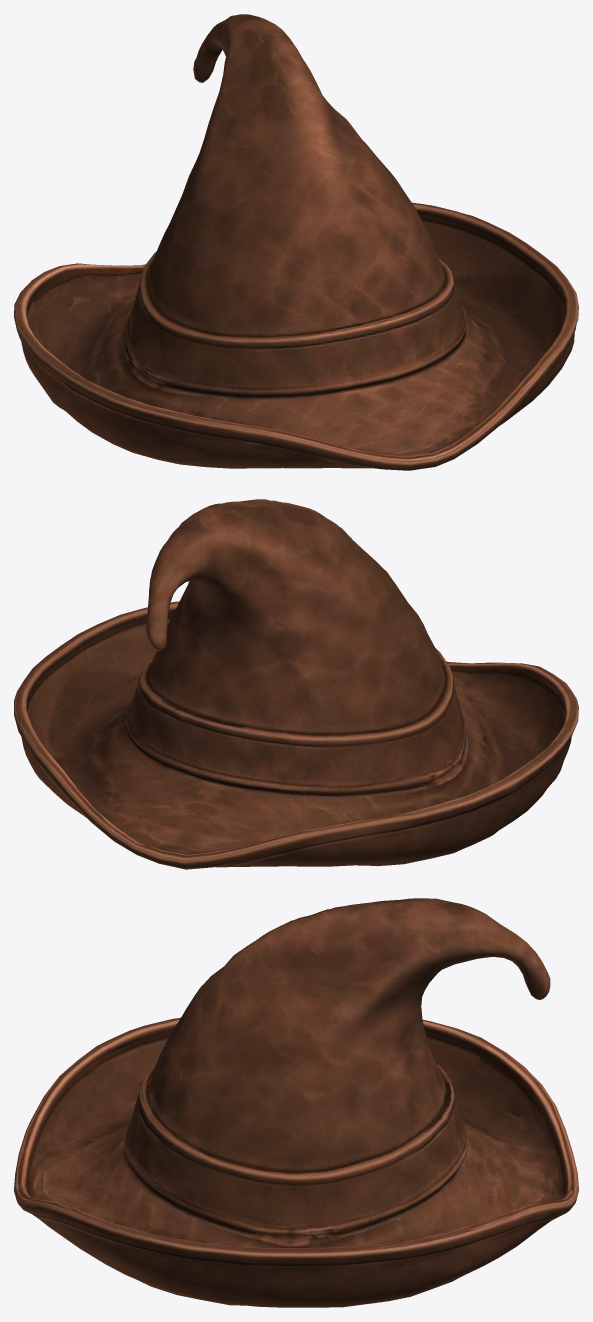
Rendered from LeatherRangedHat.glb.
3 views of the same model, one above another, from view 1: azimuth 30°, elevation 25°; view 2: azimuth 150°, elevation 25°; view 3: azimuth 270°, elevation 25° (orthographic). The views are drawn at different scales.
Parts seen in each view (by area): view 1: Mesh_0; view 2: Mesh_0; view 3: Mesh_0.
Boxes of the visible parts, box(x1,y1,x2,y2) form: Mesh_0: box(14, 14, 578, 470); Mesh_0: box(14, 499, 578, 869); Mesh_0: box(14, 898, 578, 1307).
Size of the model in its own units: 1.91 by 1.15 by 1.85.
Materials: 1 (1 with a texture image).
